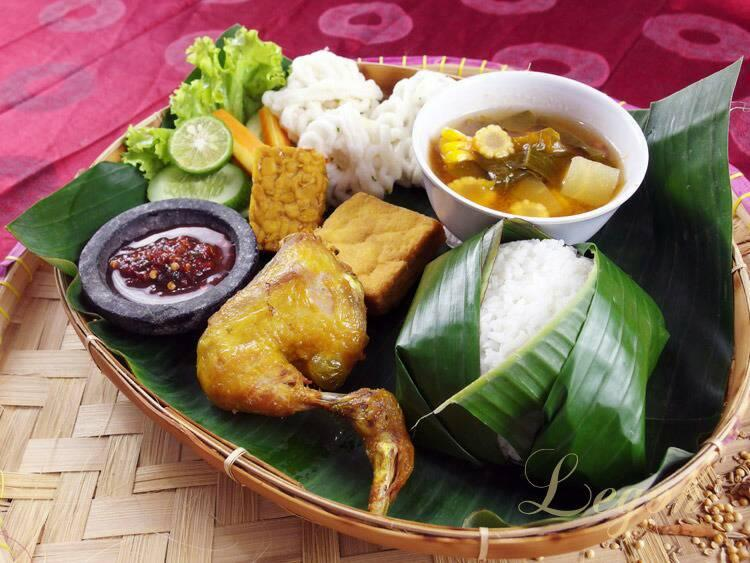buah_sayur_lainnya: (472, 122, 598, 197), (178, 87, 254, 173), (125, 249, 212, 292)
daging: (235, 294, 346, 383)
makanan_berpati: (298, 81, 394, 137), (512, 257, 572, 311)
